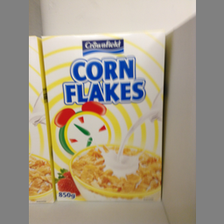cereal: (42, 33, 164, 200)
